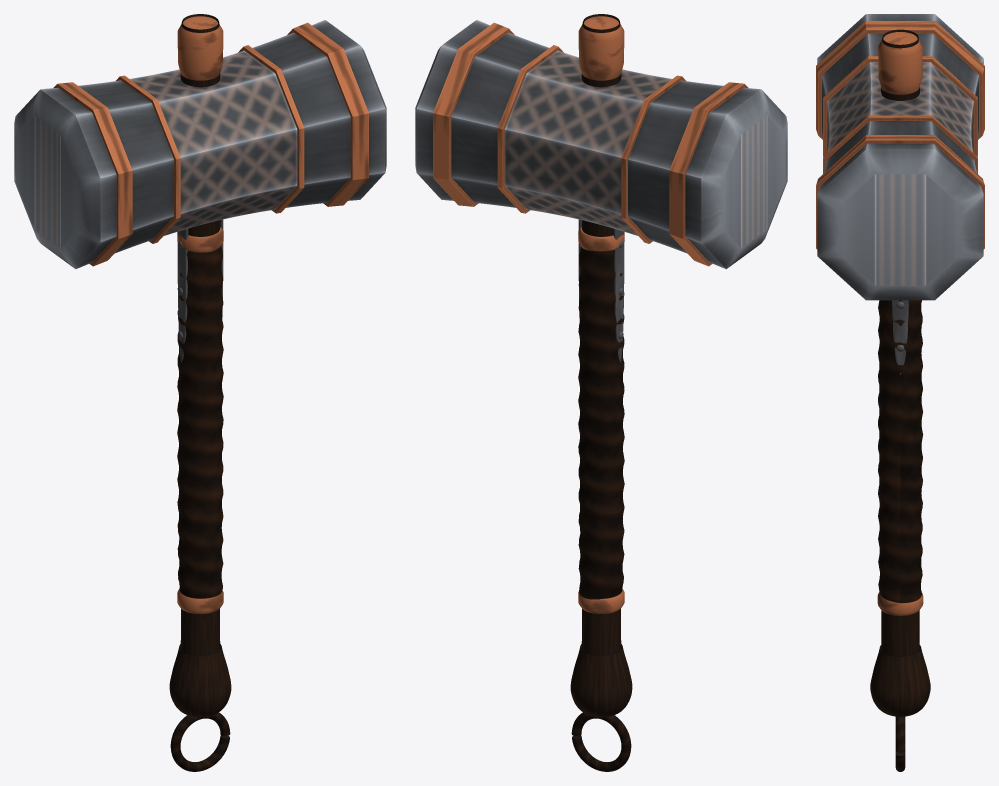
File: hammer_hd.glb
3 views of the same model, side by side, from view 1: azimuth 30°, elevation 25°; view 2: azimuth 150°, elevation 25°; view 3: azimuth 270°, elevation 25° (orthographic). The views are drawn at different scales.
Visible parts, largest first — view 1: Weapon; view 2: Weapon; view 3: Weapon.
Boxes of the visible parts, x1,y1,x2,y2 form: Weapon: (14,14,386,771); Weapon: (415,14,787,771); Weapon: (816,14,984,771).
Bounding box in the file's own units: 0.27 × 0.6324 × 0.1323.
Materials: 1 (1 with a texture image).
